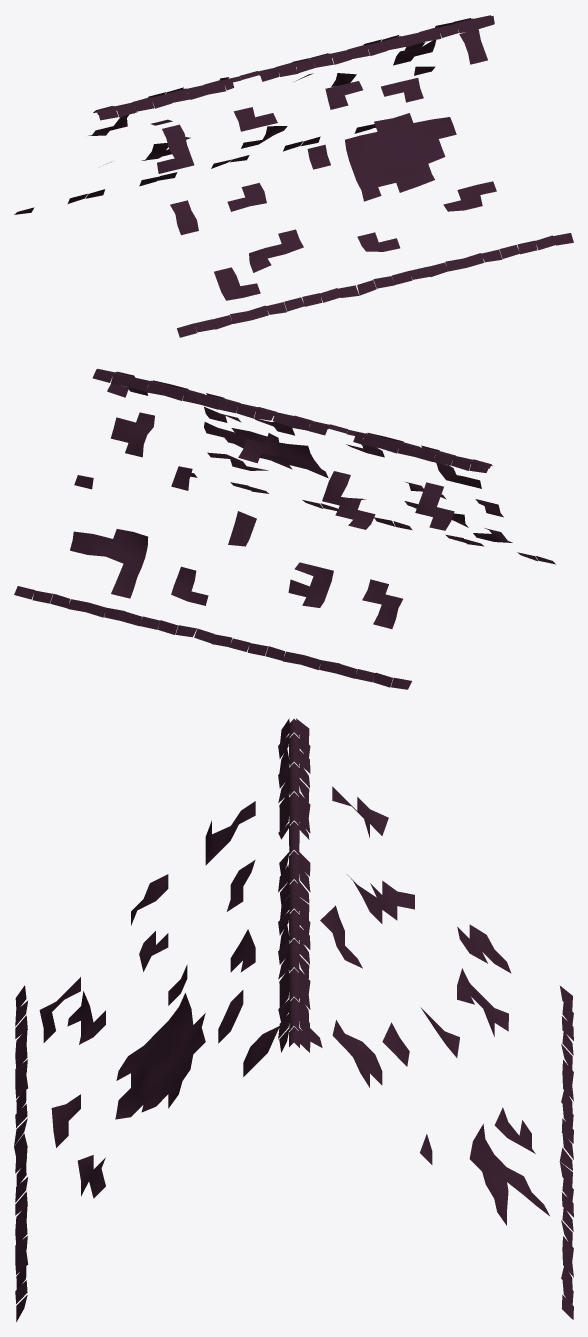
The model's file is Roof.fbx.
3 renders of one model, top to bottom at view 1: azimuth 30°, elevation 25°; view 2: azimuth 150°, elevation 25°; view 3: azimuth 270°, elevation 25°, orthographic. The views are drawn at different scales.
Visible parts, largest first — view 1: Roof; view 2: Roof; view 3: Roof.
Part boxes in pixels (x1,y1,x2,y2): Roof: (14, 15, 573, 337); Roof: (14, 368, 555, 689); Roof: (14, 718, 573, 1321).
Bounding box in the file's own units: 901 × 367 × 660.
